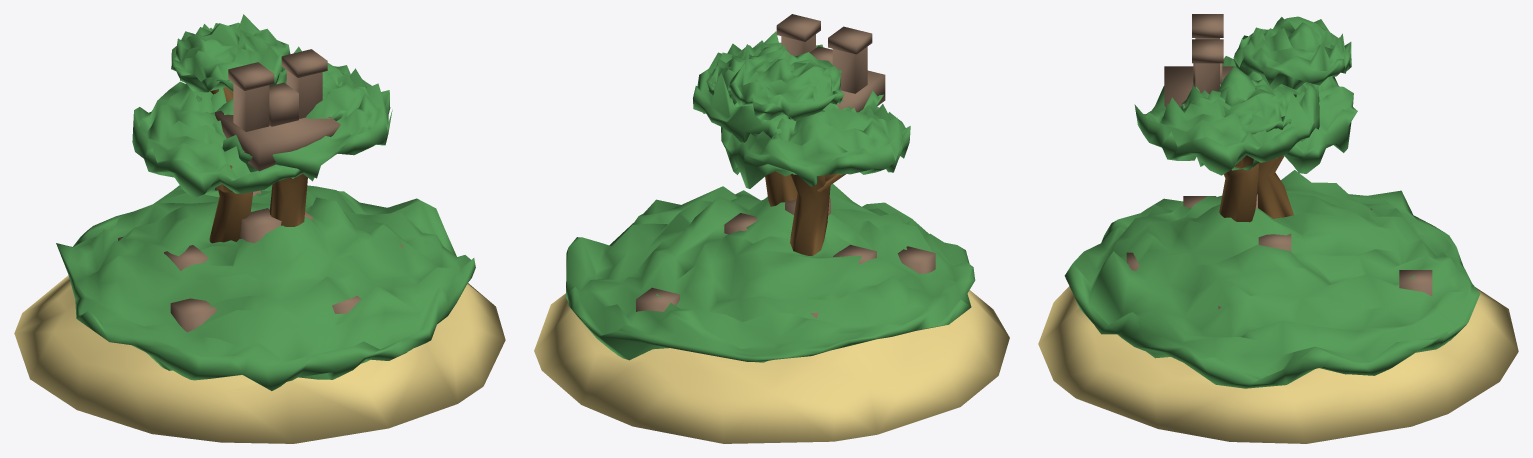
Rendered from IslandJungleLowPoly2.fbx.
3 renders of one model, left to right at view 1: azimuth 30°, elevation 25°; view 2: azimuth 150°, elevation 25°; view 3: azimuth 270°, elevation 25°, orthographic. The views are drawn at different scales.
Visible parts, largest first — view 1: IslandJungleLowPoly; view 2: IslandJungleLowPoly; view 3: IslandJungleLowPoly.
Boxes of the visible parts, <box> form: IslandJungleLowPoly: <box>14,14,505,443</box>; IslandJungleLowPoly: <box>534,14,1009,443</box>; IslandJungleLowPoly: <box>1038,14,1518,443</box>.
Size of the model in its own units: 308 by 310 by 217.
